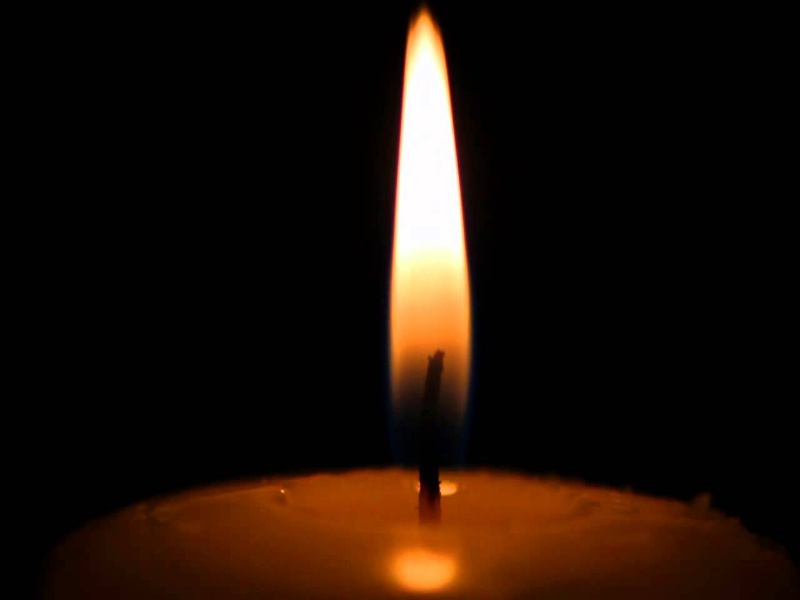fire: (382, 26, 469, 414)
